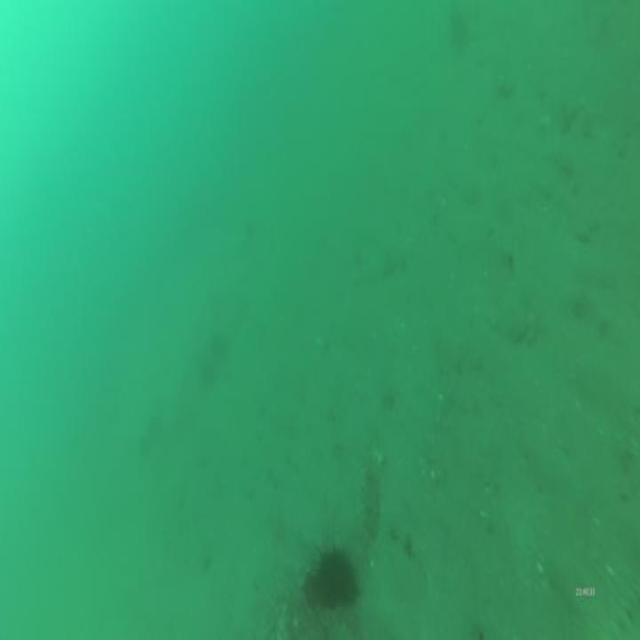echinus: (300, 537, 362, 615)
holothurian: (356, 458, 384, 548)
